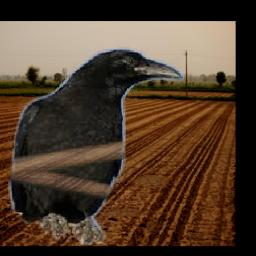Crow: (9, 48, 185, 245)
